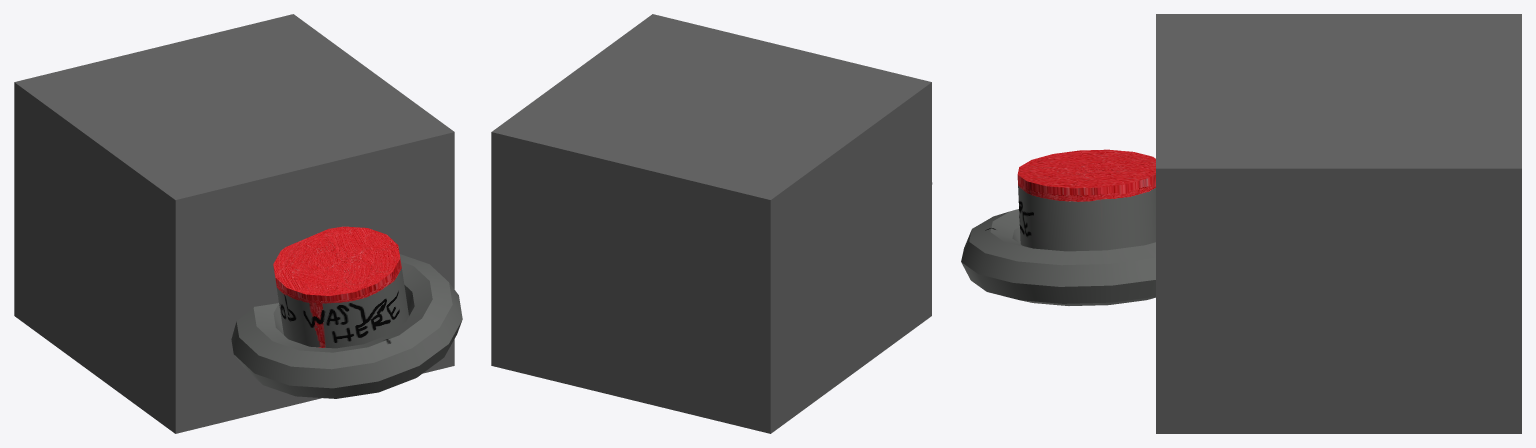
Rendered from laser emitter colored.fbx.
3 renders of one model, left to right at view 1: azimuth 30°, elevation 25°; view 2: azimuth 150°, elevation 25°; view 3: azimuth 270°, elevation 25°, orthographic. The views are drawn at different scales.
Visible parts, largest first — view 1: root, node_id9 (×2); view 2: root; view 3: root, node_id9 (×2).
Part boxes in pixels (<box>): root: <box>14,14,454,433</box>; node_id9 (×2): <box>231,226,462,398</box>; root: <box>491,14,931,433</box>; root: <box>1156,14,1521,433</box>; node_id9 (×2): <box>961,149,1155,305</box>.
Size of the model in its own units: 1.02 by 0.8192 by 1.57.
Materials: 2 (1 with a texture image).
